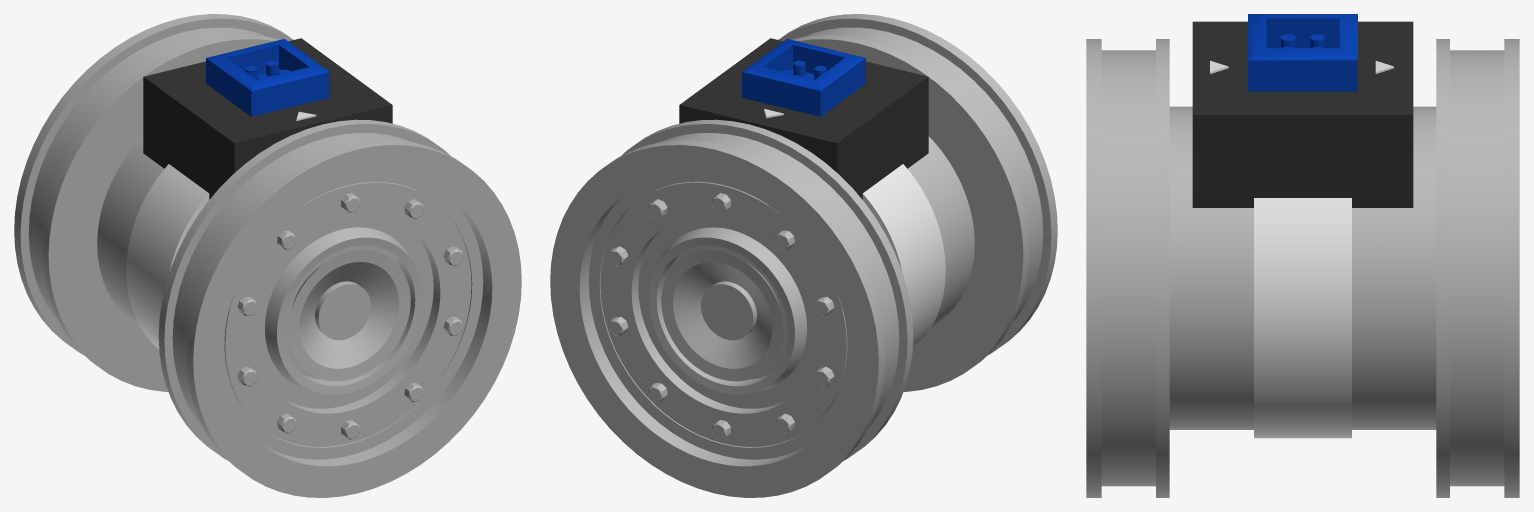
The model's file is PipeSensor.gltf.
3 views of the same model, side by side, from view 1: azimuth 30°, elevation 25°; view 2: azimuth 150°, elevation 25°; view 3: azimuth 270°, elevation 25° (orthographic). The views are drawn at different scales.
Visible parts, largest first — view 1: Cylinder; view 2: Cylinder; view 3: Cylinder.
Boxes of the visible parts, bbox=[...] form: Cylinder: bbox=[14, 14, 521, 497]; Cylinder: bbox=[550, 14, 1057, 497]; Cylinder: bbox=[1086, 14, 1519, 497].
Bounding box in the file's own units: 0.2498 × 0.2656 × 0.2357.
